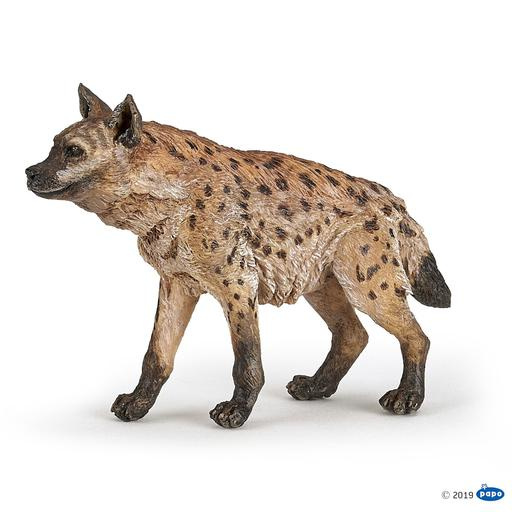Hyena: (19, 78, 458, 433)
